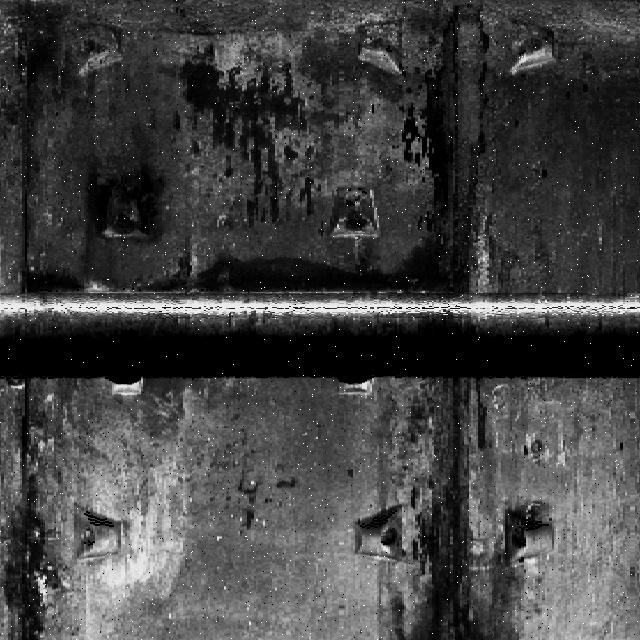leakage: (379, 361, 528, 639), (407, 0, 497, 296), (0, 413, 73, 635), (156, 248, 405, 293)
